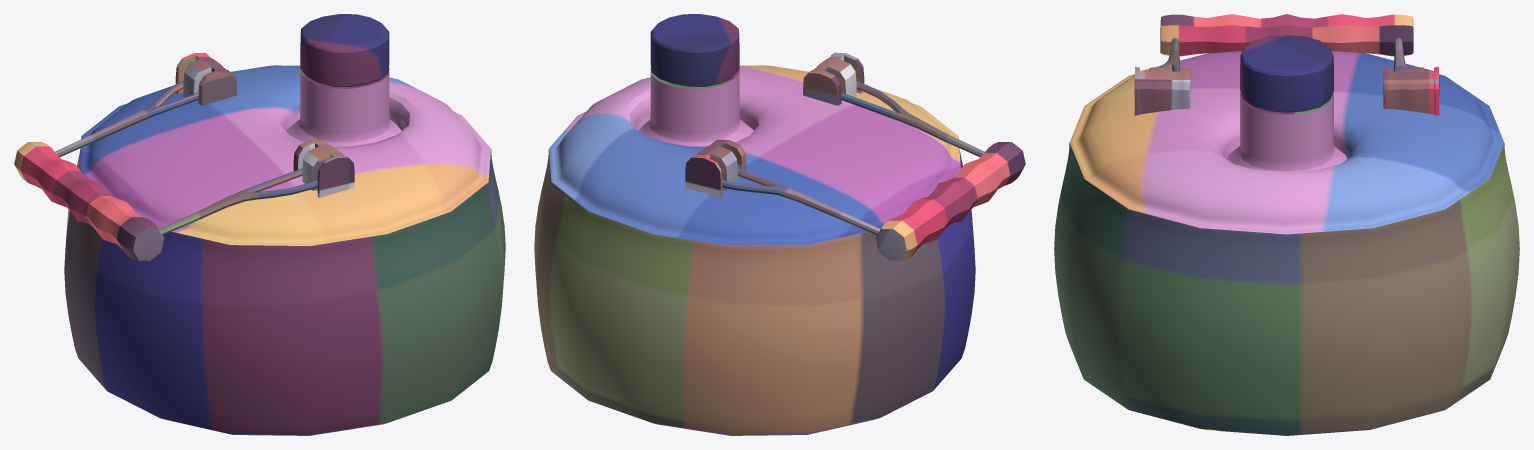
Rendered from gas can.fbx.
The picture shows the model from 3 angles, left to right: view 1: azimuth 30°, elevation 25°; view 2: azimuth 150°, elevation 25°; view 3: azimuth 270°, elevation 25°; orthographic projection. The views are drawn at different scales.
Parts seen in each view (by area): view 1: Cube.001; view 2: Cube.001; view 3: Cube.001.
Boxes of the visible parts, x1,y1,x2,y2 form: Cube.001: (14, 14, 505, 435); Cube.001: (534, 14, 1025, 435); Cube.001: (1054, 14, 1519, 435).
Size of the model in its own units: 46.52 by 33.82 by 43.69.
